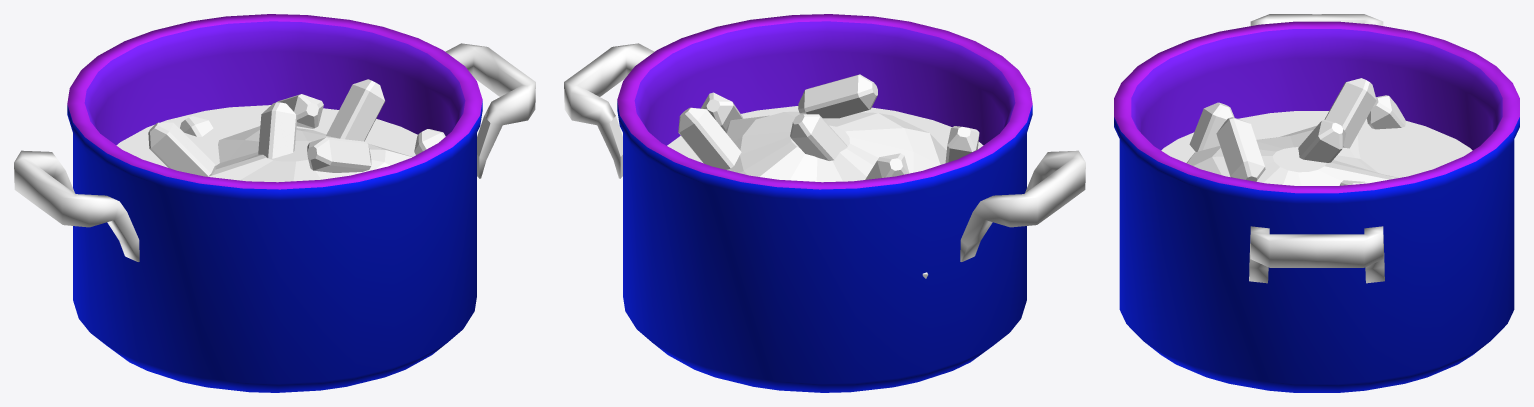
Rendered from Rice Pot.fbx.
The picture shows the model from 3 angles, left to right: view 1: azimuth 30°, elevation 25°; view 2: azimuth 150°, elevation 25°; view 3: azimuth 270°, elevation 25°; orthographic projection.
Visible parts, largest first — view 1: Cylinder, Cube, Cylinder_003, Cylinder_001, Water; view 2: Cylinder, Cylinder_001, Cylinder_003, Cube, Water; view 3: Cylinder, Cube, Water, Cylinder_003, Cylinder_001.
Boxes of the visible parts, x1,y1,x2,y2 form: Cylinder: [67, 14, 482, 392]; Cube: [148, 79, 445, 176]; Cylinder_003: [14, 43, 535, 261]; Cylinder_001: [208, 126, 412, 182]; Water: [116, 105, 417, 167]; Cylinder: [617, 14, 1032, 392]; Cylinder_001: [725, 111, 946, 182]; Cylinder_003: [564, 43, 1085, 261]; Cube: [678, 74, 979, 278]; Water: [667, 106, 983, 162]; Cylinder: [1114, 21, 1519, 392]; Cube: [1189, 78, 1405, 185]; Water: [1161, 111, 1472, 177]; Cylinder_003: [1249, 14, 1384, 283]; Cylinder_001: [1187, 125, 1398, 185].
Bounding box in the file's own units: 83.38 × 35.99 × 62.94.
